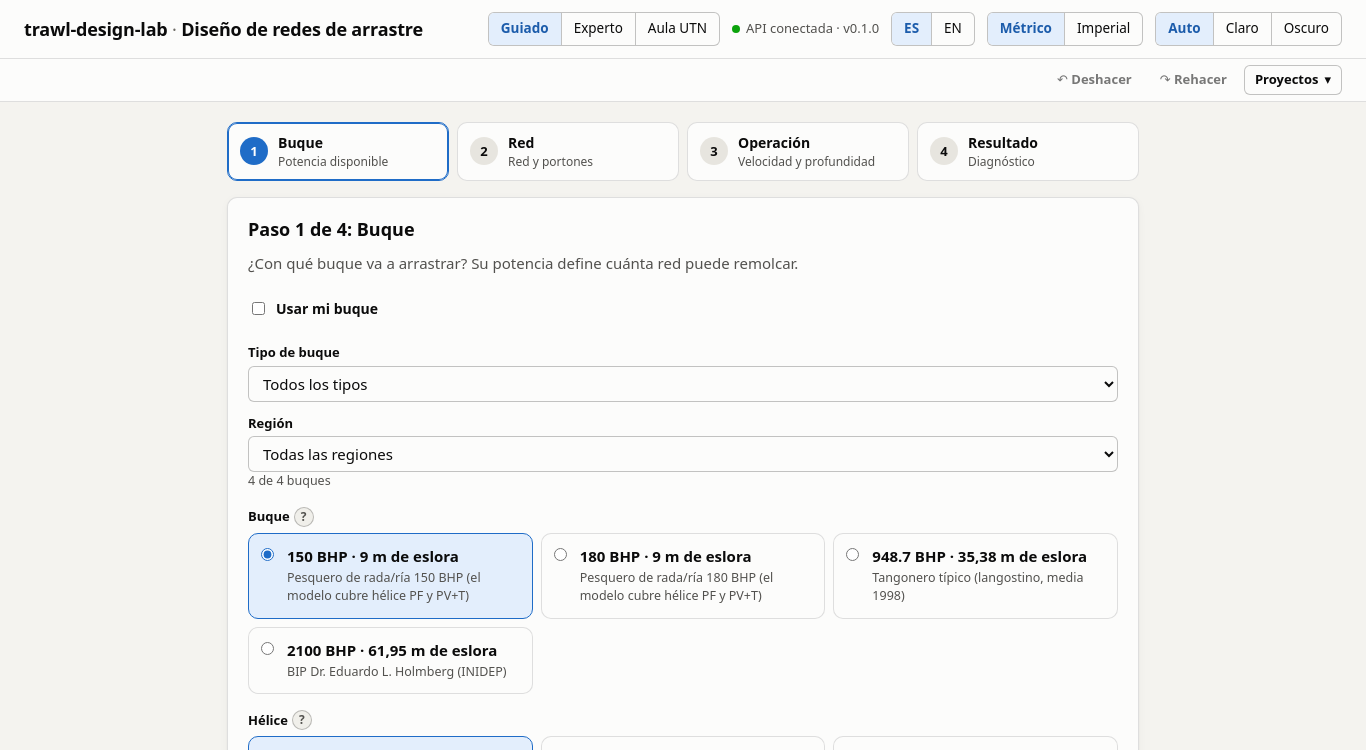
Test: modo guiado › deshace y rehace cambios del caso (botones y Ctrl+Z)
Expected: the button "↶ Deshacer" is disabled, [1046, 65, 1143, 95]
Click the radio button labelled "180 BHP" at {"x": 560, "y": 554}, box [554, 548, 567, 561]
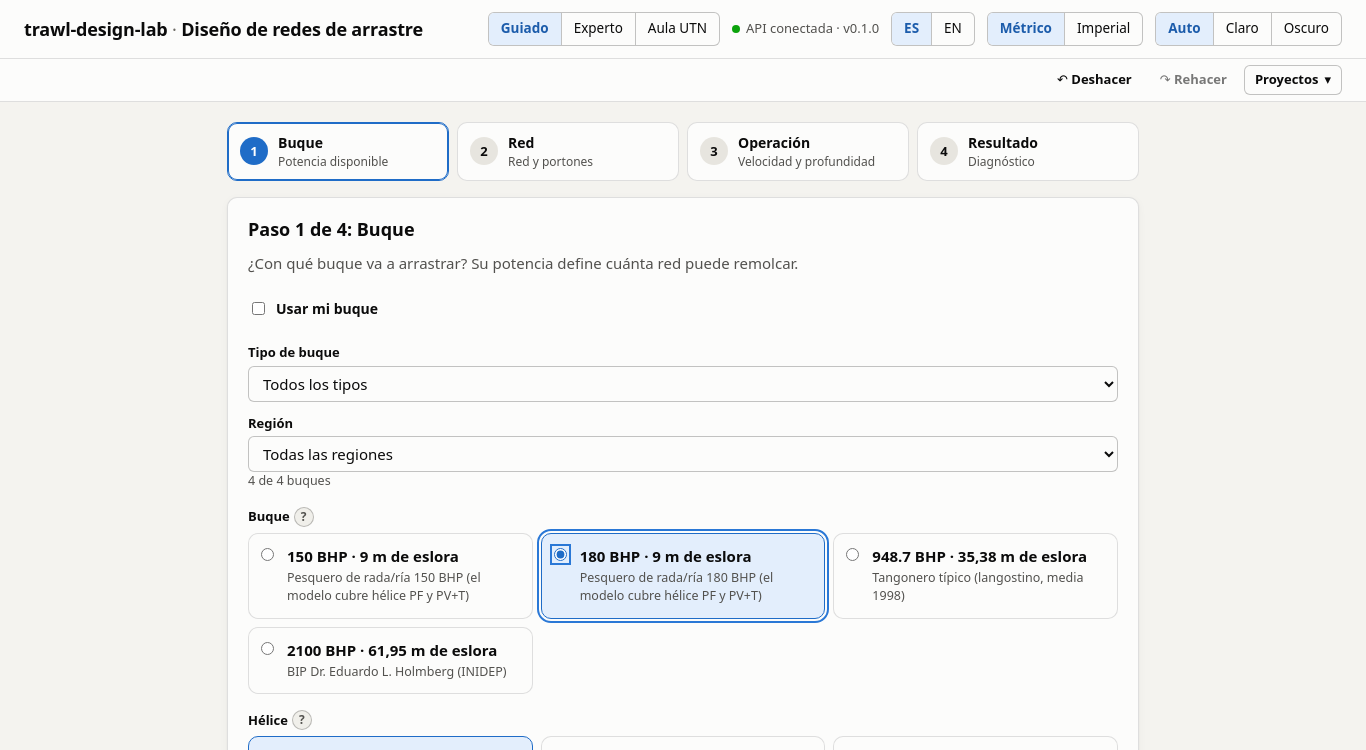
Now the radio button labelled "180 BHP" is checked, box [554, 548, 567, 561]
Click the button "↶ Deshacer" at {"x": 1094, "y": 80}, box [1046, 65, 1143, 95]
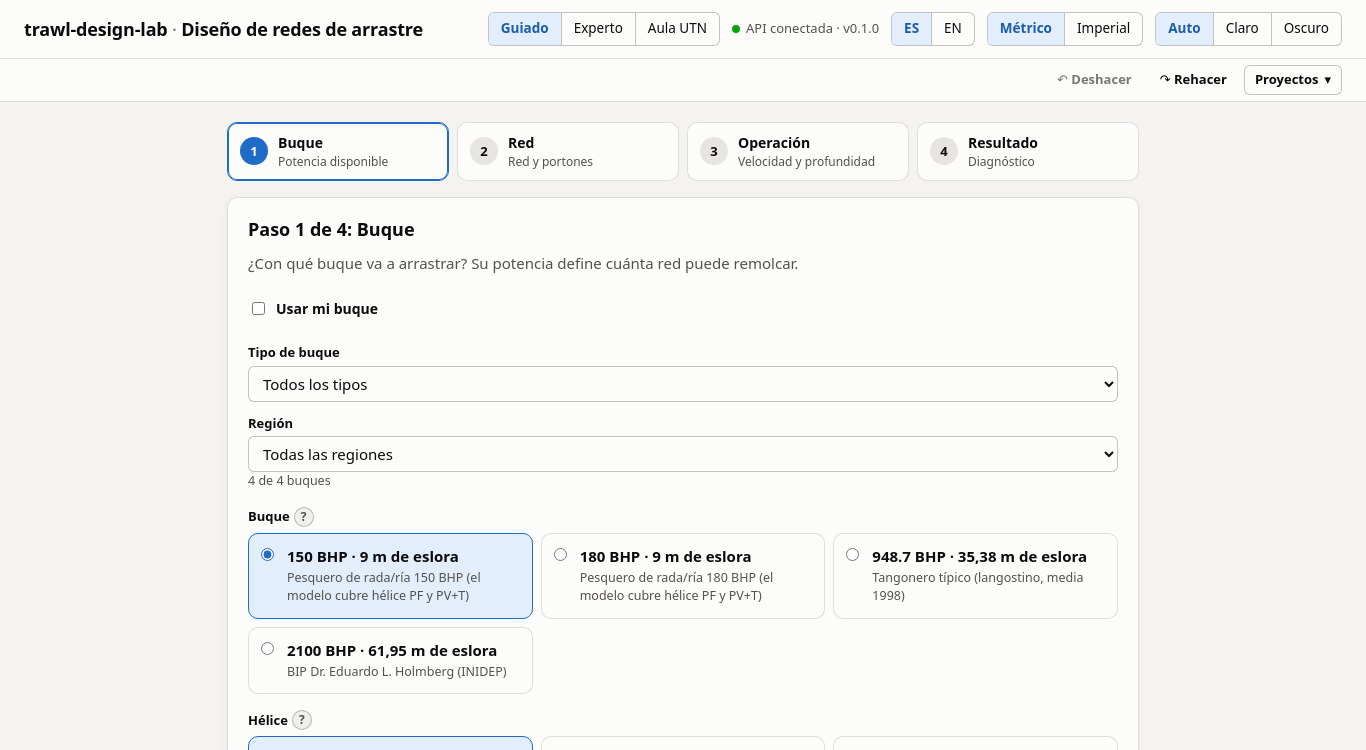
Now the radio button labelled "150 BHP" is checked, box [261, 548, 274, 561]
Click the button "↷ Rehacer" at {"x": 1193, "y": 80}, box [1149, 65, 1238, 95]
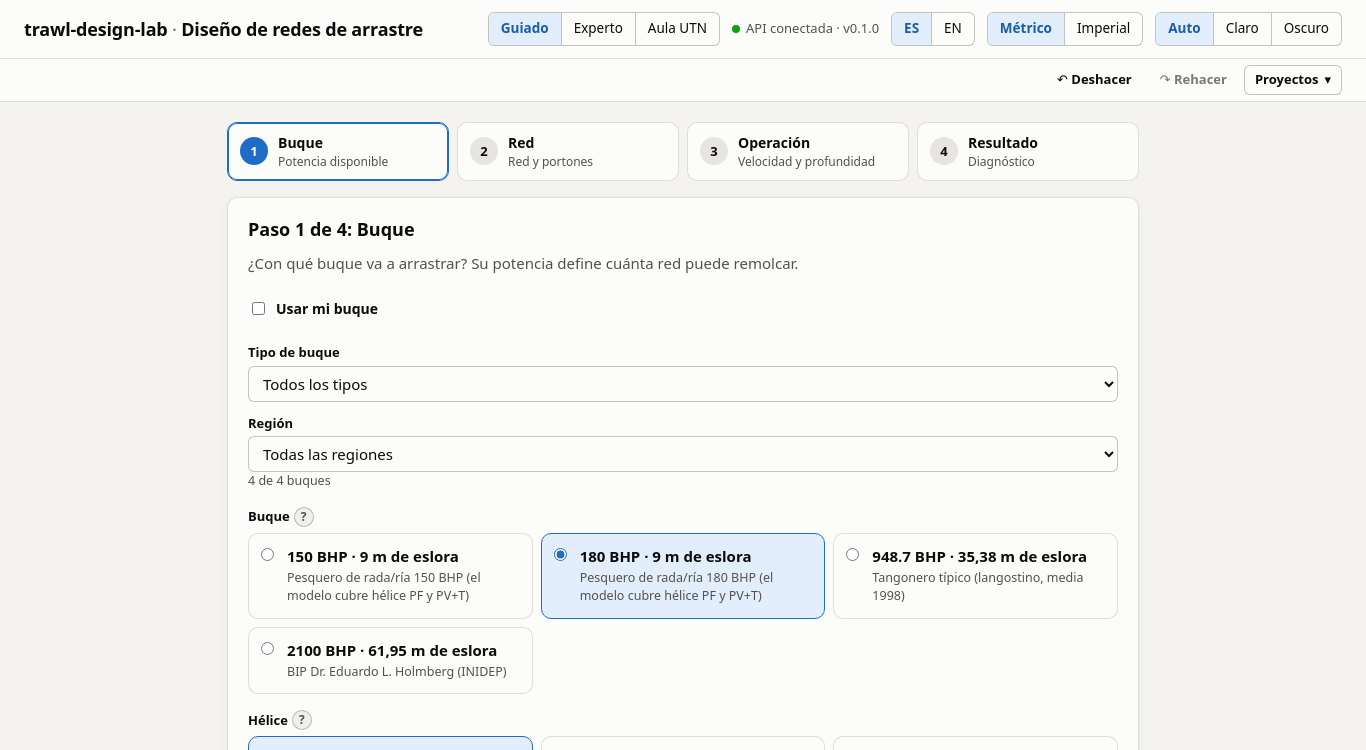
Now the radio button labelled "180 BHP" is checked, box [554, 548, 567, 561]
Press z
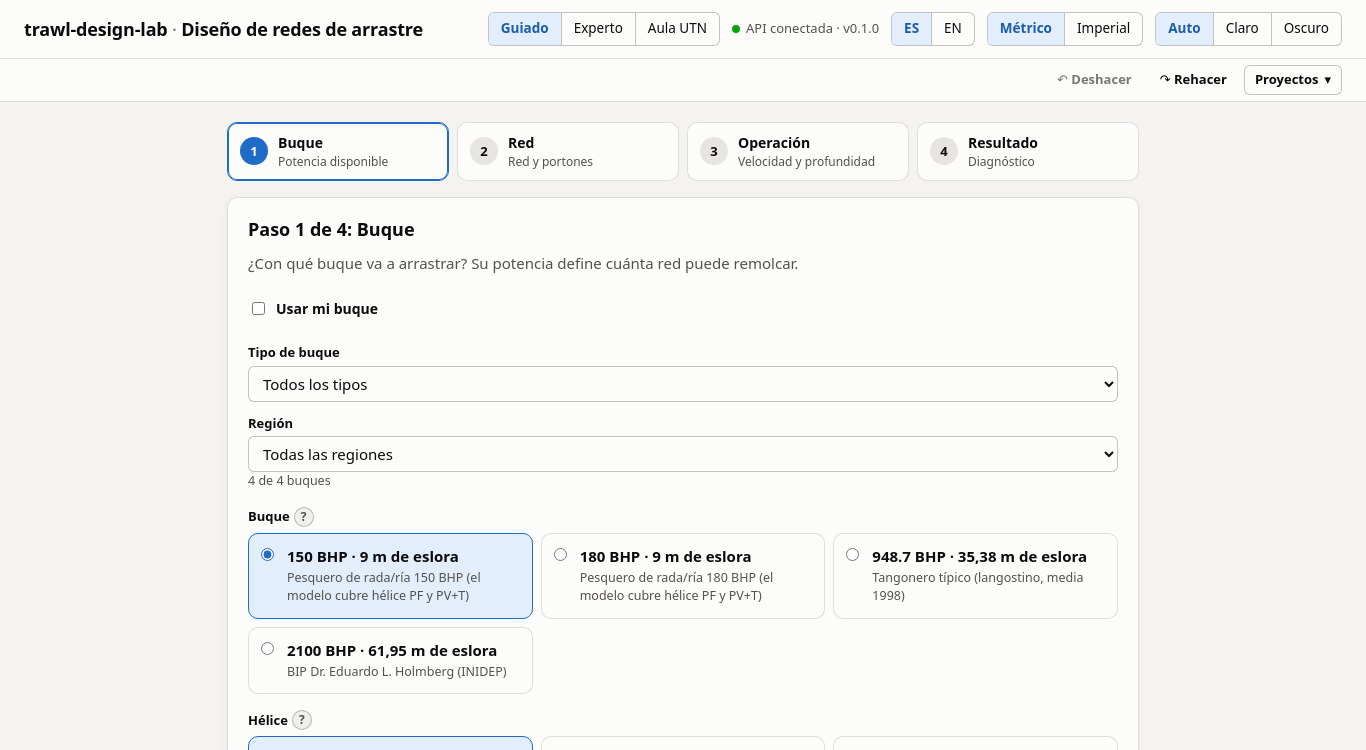
Now the radio button labelled "150 BHP" is checked, box [261, 548, 274, 561]
